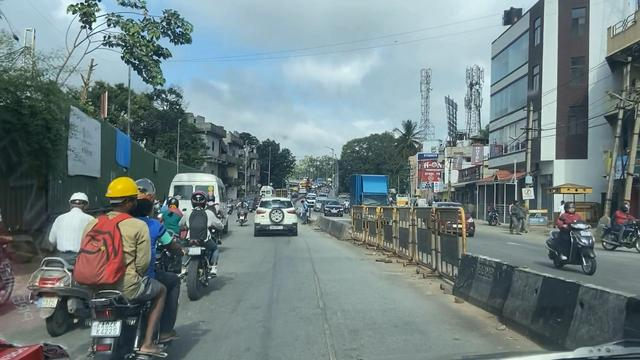LMV: (71, 182, 178, 352), (178, 196, 225, 292), (253, 198, 299, 232)
UnsurfacedRoad: (302, 237, 338, 360)
